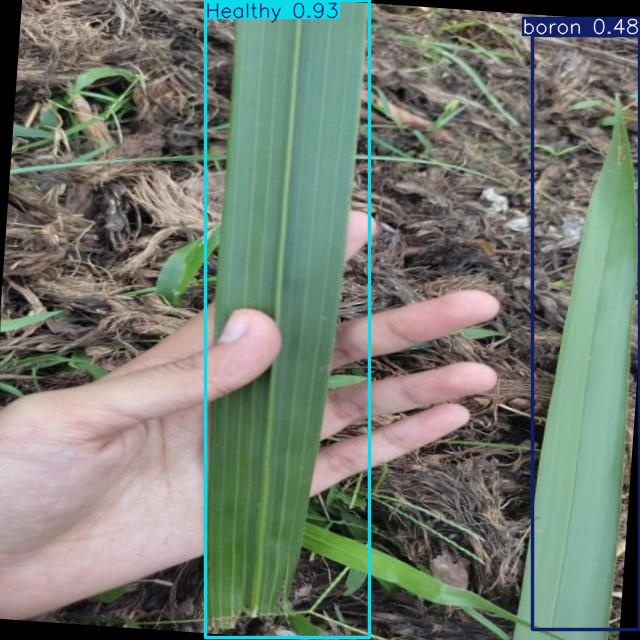Healthy: (205, 1, 369, 638)
nitrogen: (532, 35, 640, 629)
